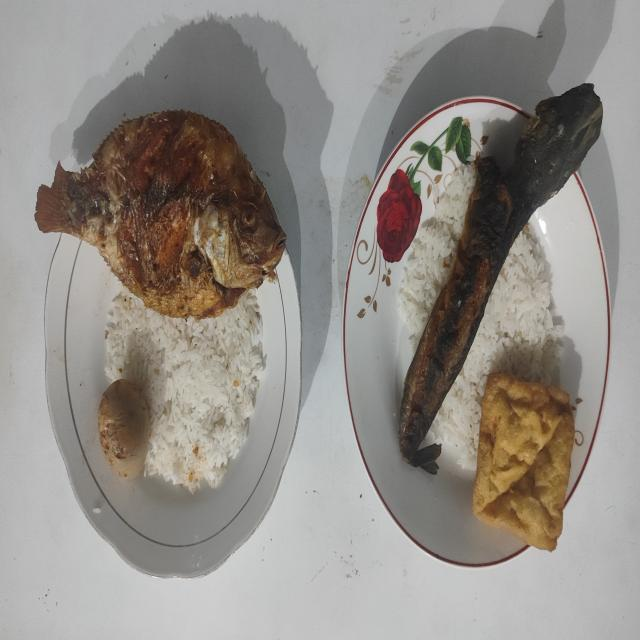ikan_mujair: (35, 110, 286, 320)
nasi_putih: (105, 282, 266, 493), (427, 229, 564, 470), (398, 170, 474, 354)
tahu_goreng: (472, 373, 576, 551)
